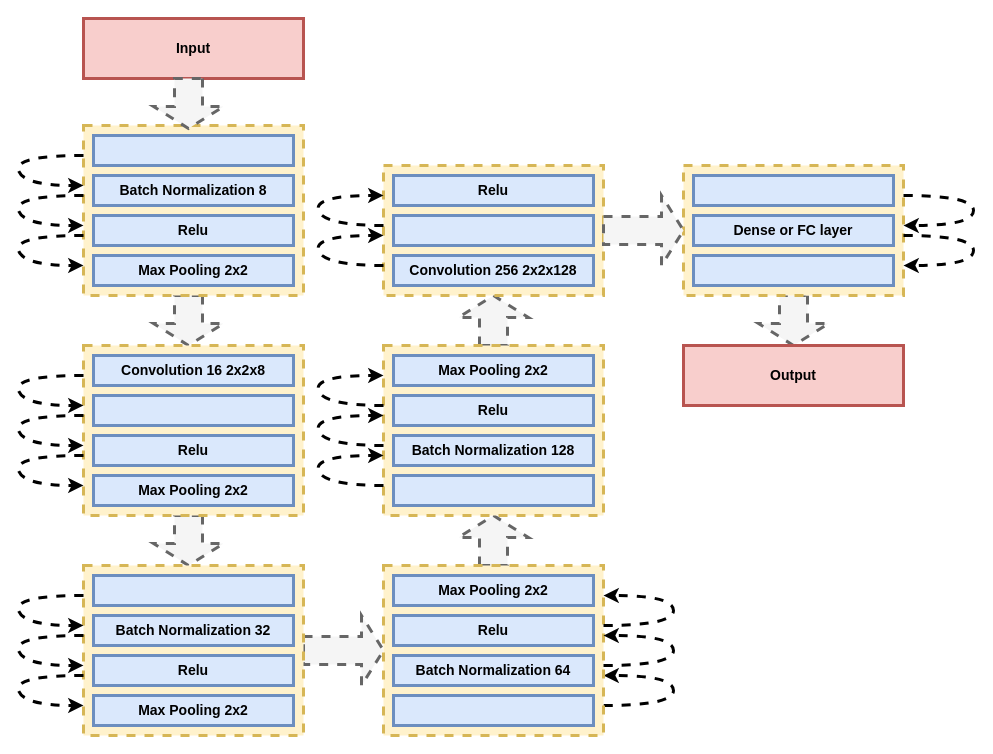
Some shapes in this 993 by 754 pixel diagram are drawn without their labels. Each missing label, with the centre of its shape:
"Batch Normalization 16" goes at point (193, 410).
"Batch Normalization 256" goes at point (493, 230).
"Convolution 128 2x2x64" goes at point (493, 490).
"Convolution 32 2x2x16" goes at point (193, 590).
"Convolution 64 2x2x32" goes at point (493, 710).
"Convolution 8 2x2x1" goes at point (193, 150).
"Flatten" goes at point (793, 190).
"Softmax" goes at point (793, 270).
